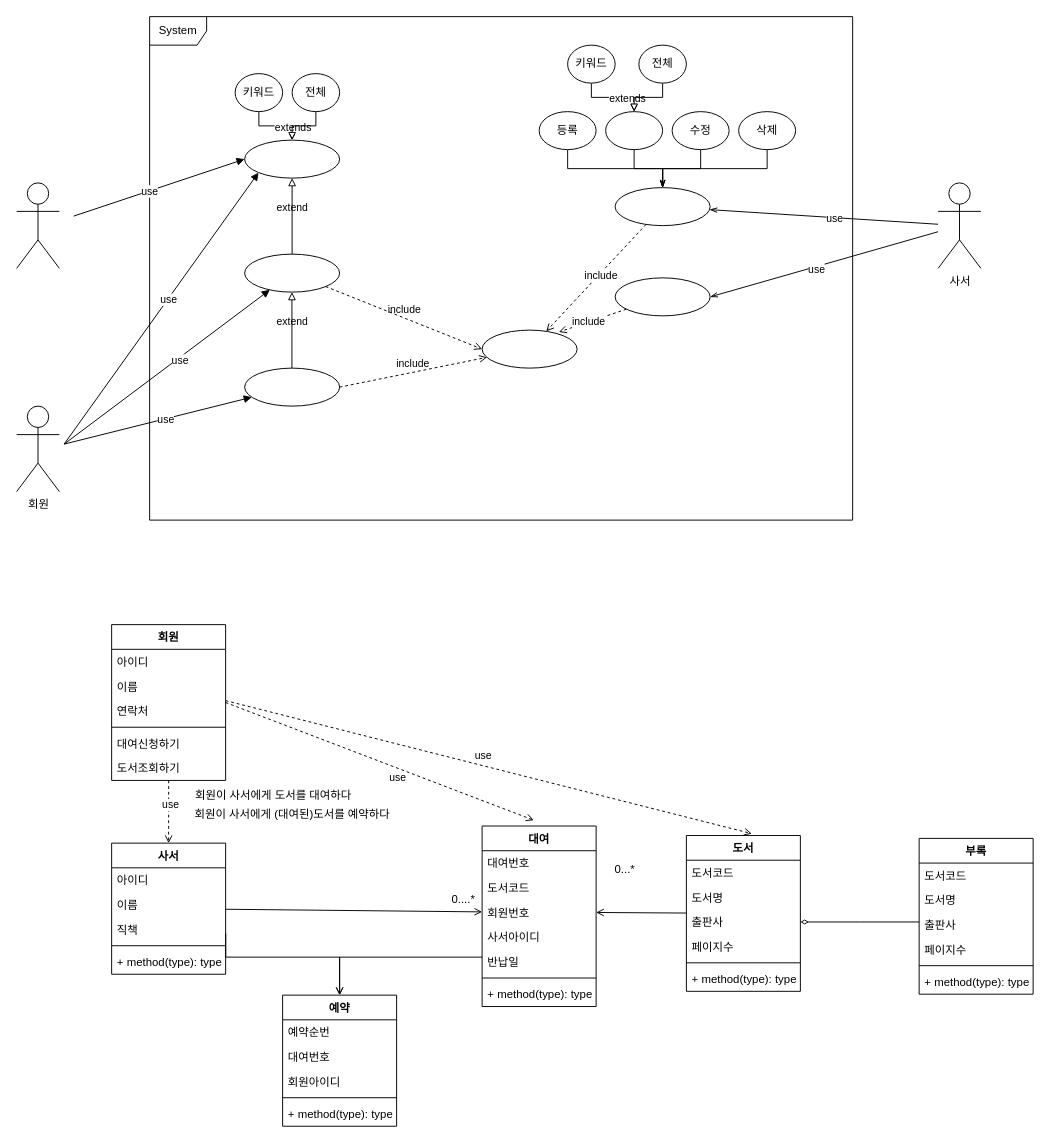
This 1050x1146 diagram has some shape labels left out. Here are the shapes that lost their labels. From the top down, the centre of each, then its label:
the point at 634,130: 조회
the point at 292,158: 도서조회
the point at 37,225: 비회원
the point at 662,206: 도서관리
the point at 292,272: 대여신청
the point at 662,296: 회원관리
the point at 529,348: 인증
the point at 292,386: 예약신청
